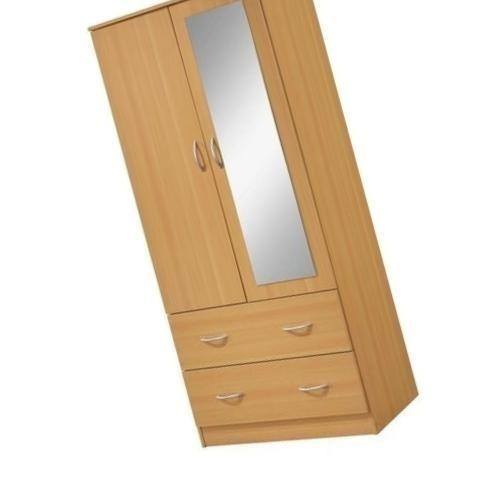Armario: (81, 2, 426, 450)
